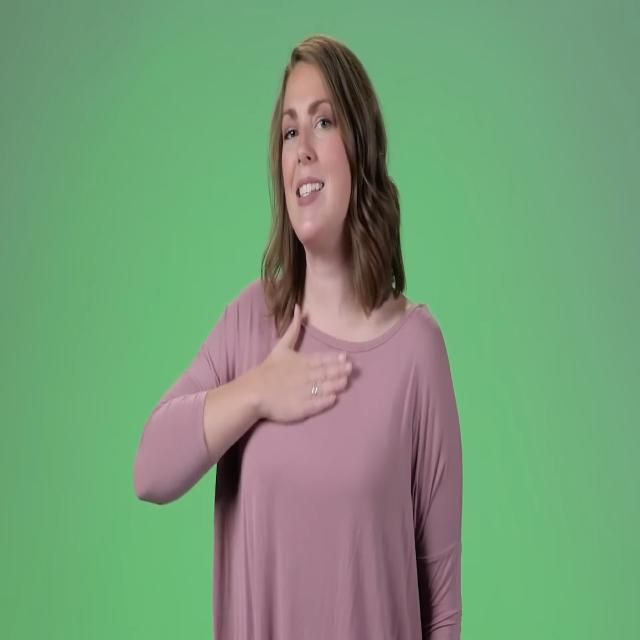please: (229, 292, 359, 444)
